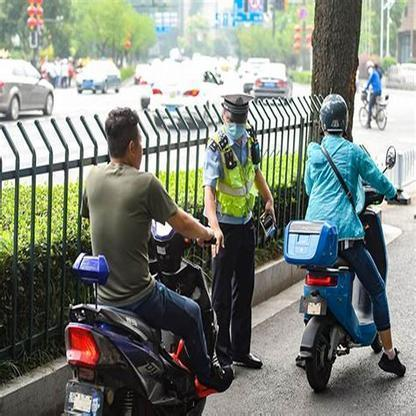target: (61, 106, 234, 407), (282, 92, 411, 399)
